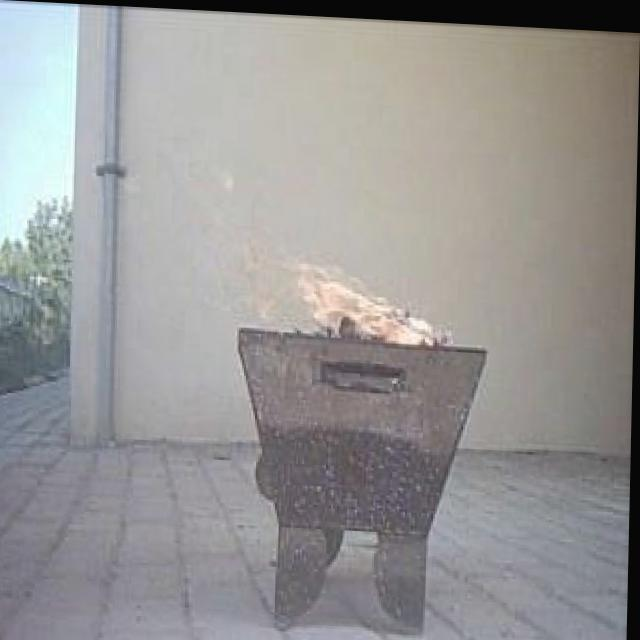Fire: (200, 182, 471, 385)
